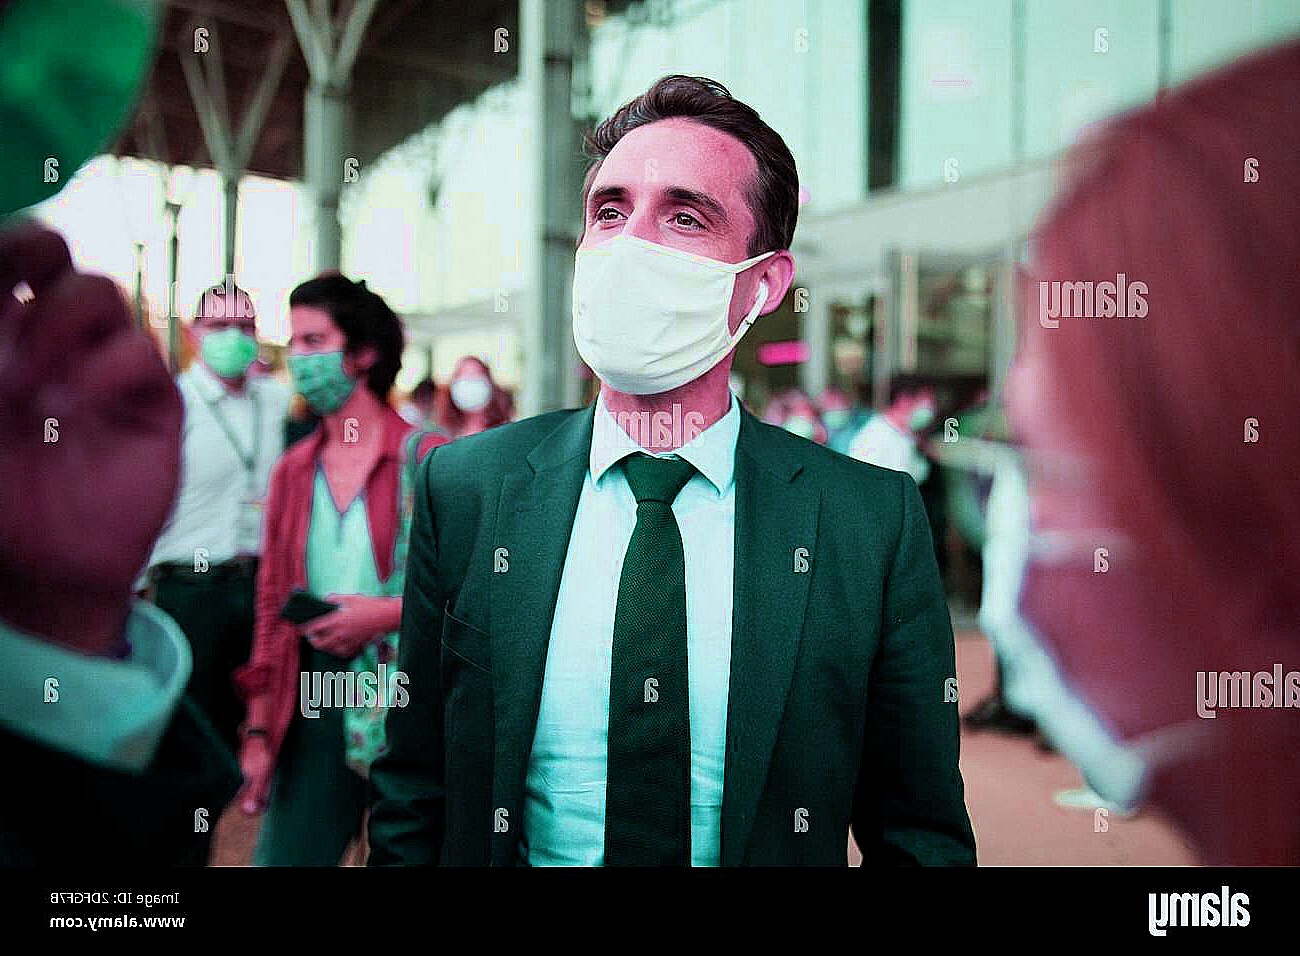earphone: (746, 249, 795, 324)
